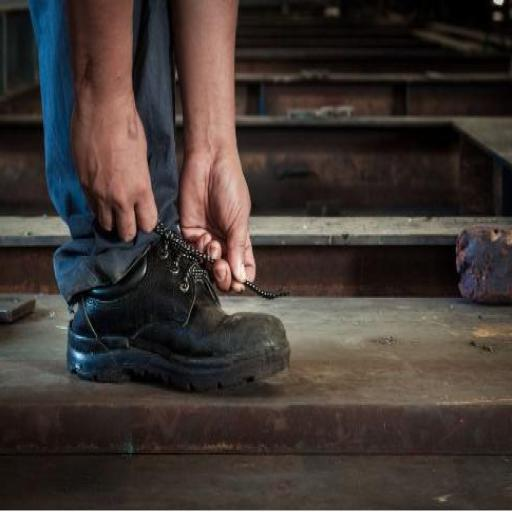safety_boots: (29, 243, 379, 396)
